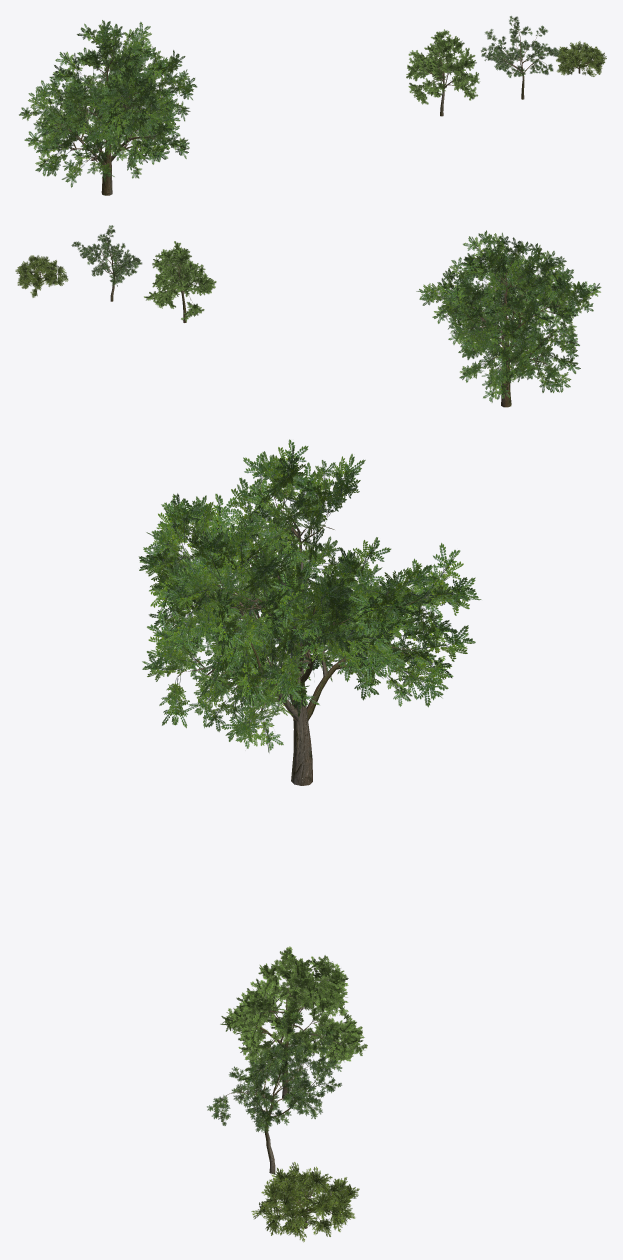
The model's file is trees-lite.glb.
3 renders of one model, top to bottom at view 1: azimuth 30°, elevation 25°; view 2: azimuth 150°, elevation 25°; view 3: azimuth 270°, elevation 25°, orthographic. The views are drawn at different scales.
Visible parts, largest first — view 1: Tree EZTree0.Large, Tree EZTree0.Medium011, Tree EZTree1.Medium002, Tree EZTree1.Bush006; view 2: Tree EZTree0.Large, Tree EZTree0.Medium011, Tree EZTree1.Medium002, Tree EZTree1.Bush006; view 3: Tree EZTree0.Large, Tree EZTree0.Medium011, Tree EZTree1.Medium002, Tree EZTree1.Bush006.
Part boxes in pixels (box(x1,y1,x2,y2)): Tree EZTree0.Large: box(19, 20, 197, 195); Tree EZTree0.Medium011: box(406, 29, 479, 116); Tree EZTree1.Medium002: box(481, 16, 560, 99); Tree EZTree1.Bush006: box(556, 41, 606, 76); Tree EZTree0.Large: box(416, 230, 601, 407); Tree EZTree0.Medium011: box(144, 241, 216, 322); Tree EZTree1.Medium002: box(71, 225, 142, 301); Tree EZTree1.Bush006: box(15, 255, 68, 297); Tree EZTree0.Large: box(138, 439, 481, 785); Tree EZTree0.Medium011: box(220, 946, 367, 1099); Tree EZTree1.Medium002: box(207, 1010, 342, 1173); Tree EZTree1.Bush006: box(251, 1162, 359, 1242).
Bounding box in the file's own units: 361 × 104 × 98.68.
Materials: 8 (8 with a texture image).
